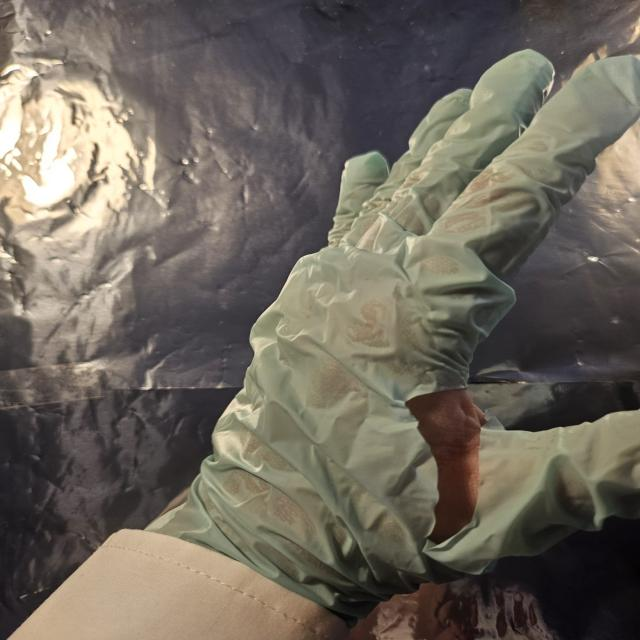gloves_damaged: (123, 46, 640, 616)
